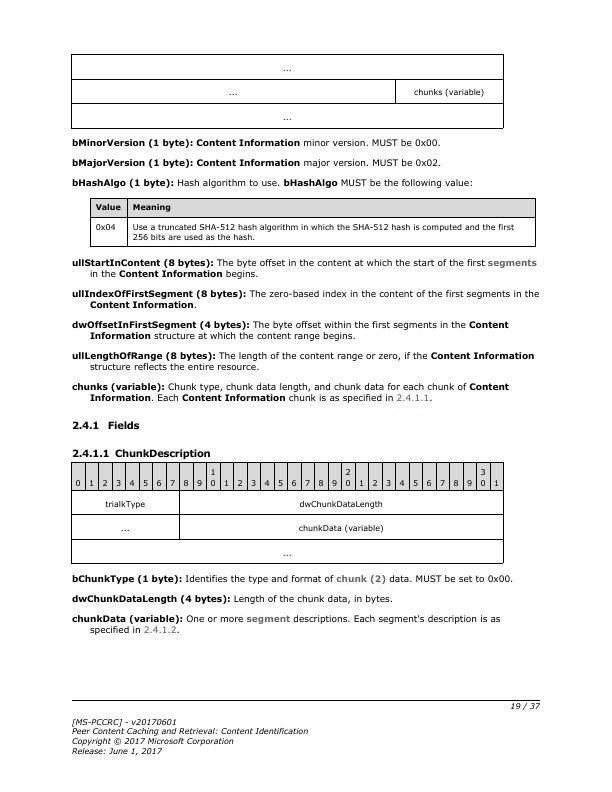table: (70, 460, 507, 566), (68, 52, 505, 129), (88, 194, 538, 250)
text: (68, 288, 542, 312), (68, 256, 538, 280), (67, 318, 512, 343), (68, 381, 512, 406), (68, 350, 537, 373), (66, 715, 309, 755), (68, 614, 504, 636), (68, 573, 514, 587), (68, 177, 476, 192), (68, 155, 442, 170), (68, 137, 444, 149), (68, 594, 394, 606), (71, 447, 213, 460), (70, 418, 143, 434)
